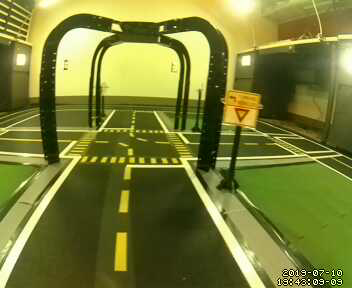Turn Yield: (220, 90, 261, 130)
